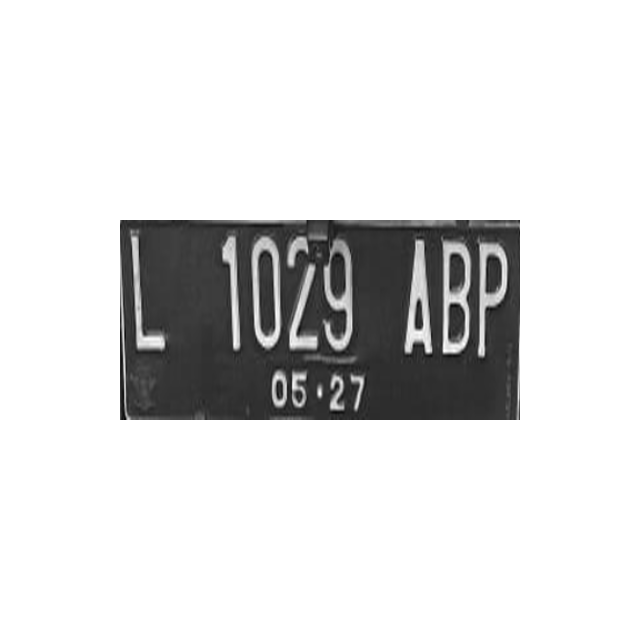contain: (124, 230, 174, 353), (193, 232, 243, 355), (244, 231, 287, 354), (284, 234, 321, 356), (321, 234, 358, 356), (399, 236, 436, 358), (437, 236, 474, 358), (473, 235, 510, 357)
